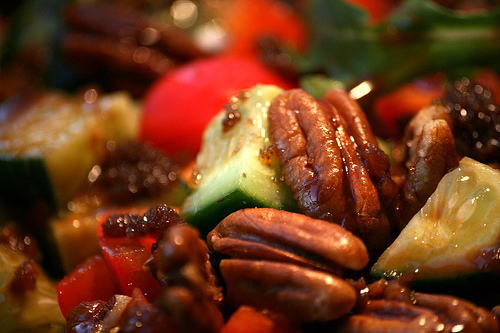cucumber: (365, 151, 499, 288), (182, 144, 293, 230), (191, 82, 283, 183)
